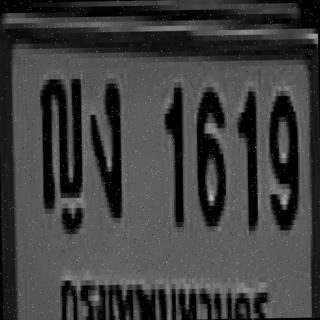A07: (88, 76, 120, 210)
A13: (37, 68, 81, 208)
N01: (235, 84, 256, 223), (162, 80, 183, 219)
N06: (194, 79, 224, 219)
N09: (266, 86, 297, 225)
